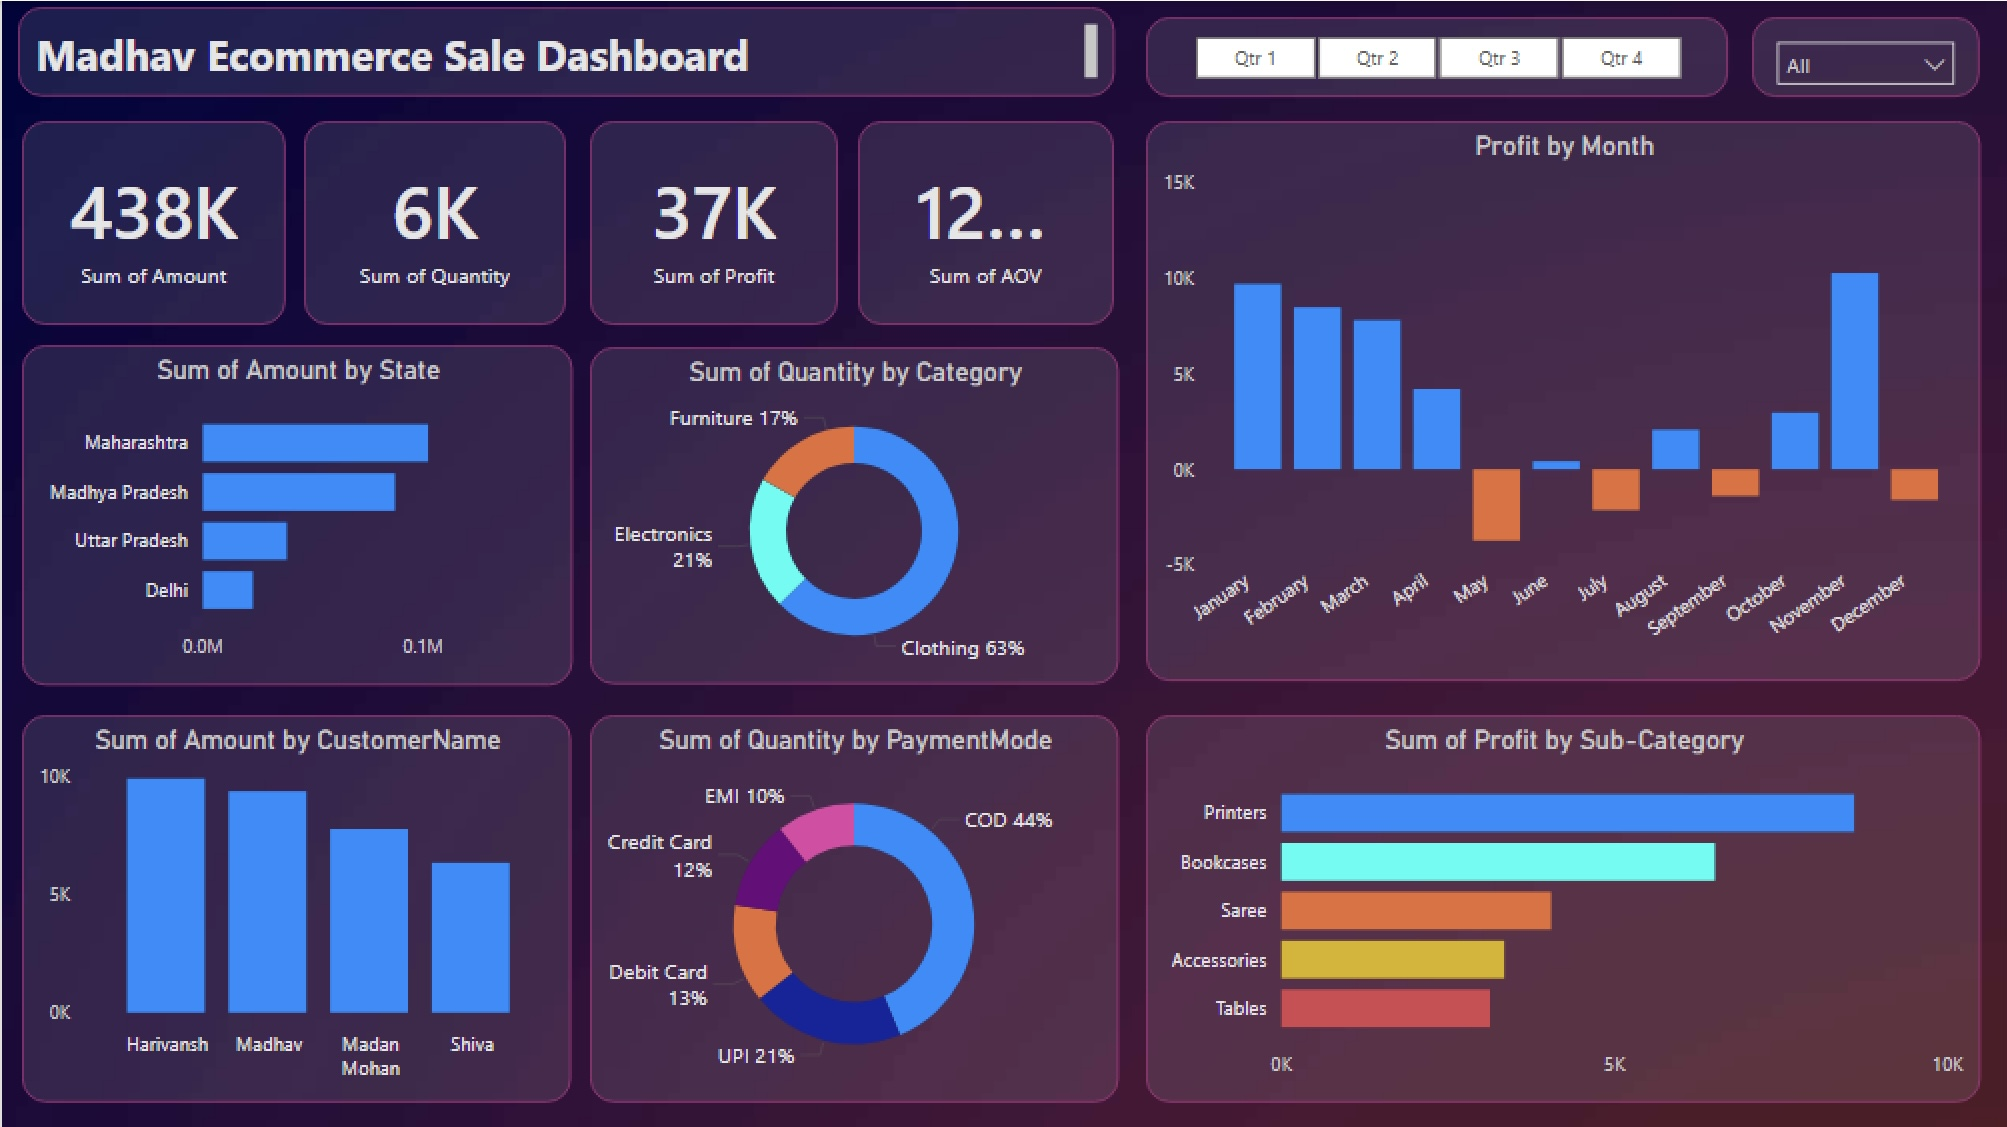

This screenshot's page, from the dashboard's own definition file:
{"tool":"powerbi","page":{"name":"Page 1","canvas":[1280,720],"ordinal":0},"visuals":[{"type":"textbox","box":[10.2,4.1,698.6,57.4],"z":0},{"type":"columnChart","title":"Profit by Month","fields":{"Category":["Orders.Order Date.Variation.Date Hierarchy.Month"],"Y":["Sum(Details.Profit)"]},"box":[729.2,76.5,531.6,357],"z":1000},{"type":"barChart","fields":{"Category":["Details.Sub-Category"],"Y":["Sum(Details.Profit)"]},"box":[729.2,455.1,531.6,247.3],"z":2000},{"type":"donutChart","fields":{"Category":["Details.Category"],"Y":["Sum(Details.Quantity)"]},"box":[374.8,220.8,336.6,215.5],"z":3000},{"type":"donutChart","fields":{"Y":["Sum(Details.Quantity)"],"Category":["Details.PaymentMode"]},"box":[374.8,455.7,336.6,247.3],"z":4000},{"type":"cardVisual","fields":{"Data":["Sum(Details.Amount)"]},"box":[12.7,76.2,168.3,130],"z":5000},{"type":"cardVisual","fields":{"Data":["Sum(Details.Profit)"]},"box":[374.8,76.2,158.1,130],"z":6000},{"type":"cardVisual","fields":{"Data":["Sum(Details.Quantity)"]},"box":[192.5,76.2,167,130],"z":7000},{"type":"cardVisual","fields":{"Data":["Sum(Details.AOV)"]},"box":[545.7,76.2,163.2,130],"z":8000},{"type":"barChart","fields":{"Category":["Orders.State"],"Y":["Sum(Details.Amount)"]},"box":[12.7,219.6,350.6,216.7],"z":9000},{"type":"columnChart","fields":{"Category":["Orders.CustomerName"],"Y":["Sum(Details.Amount)"]},"box":[13,455.1,349.9,246.7],"z":10000},{"type":"slicer","fields":{"Values":["Orders.Order Date.Variation.Date Hierarchy.Quarter"]},"box":[729.2,10.5,371,51],"z":11000},{"type":"slicer","fields":{"Values":["Orders.State"]},"box":[1115.5,10.5,145.3,51],"z":11001}]}

Visuals, with their boxes in screenshot pixels (x1, y1, x2, y2), scaled from the page's 1280x720 canvas onto the 2007x1127 screenshot:
textbox: 16 6 1111 96
"Profit by Month" columnChart: 1143 120 1977 679
barChart - Details.Sub-Category x Sum(Details.Profit): 1143 712 1977 1099
donutChart - Details.Category x Sum(Details.Quantity): 588 346 1115 683
donutChart - Sum(Details.Quantity) x Details.PaymentMode: 588 713 1115 1100
cardVisual - Sum(Details.Amount): 20 119 284 323
cardVisual - Sum(Details.Profit): 588 119 836 323
cardVisual - Sum(Details.Quantity): 302 119 564 323
cardVisual - Sum(Details.AOV): 856 119 1112 323
barChart - Orders.State x Sum(Details.Amount): 20 344 570 683
columnChart - Orders.CustomerName x Sum(Details.Amount): 20 712 569 1099
slicer - Orders.Order Date.Variation.Date Hierarchy.Quarter: 1143 16 1725 96
slicer - Orders.State: 1749 16 1977 96
